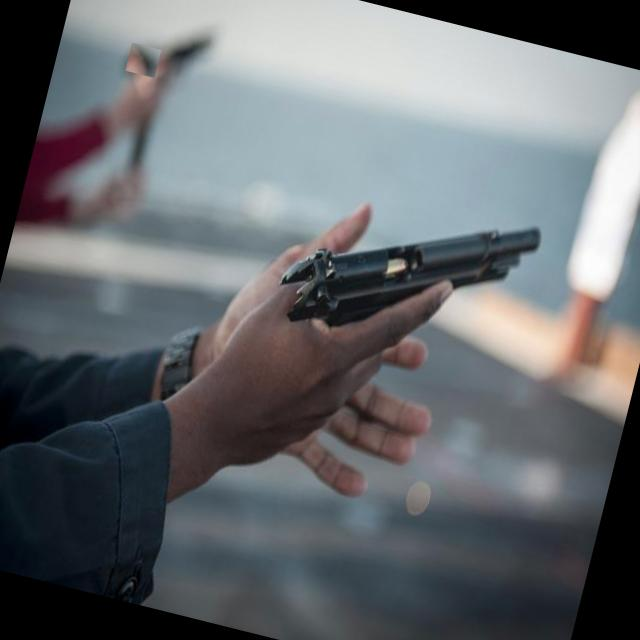Gun: (281, 227, 539, 325), (164, 35, 212, 72), (127, 112, 152, 172), (130, 43, 157, 77)
